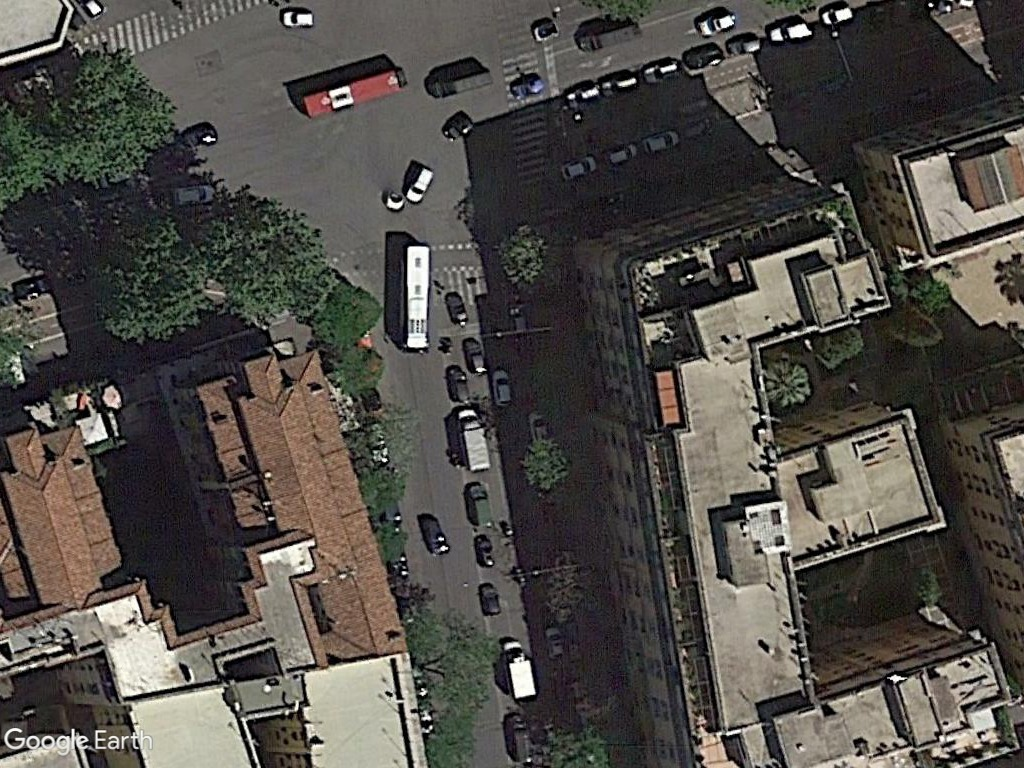bus: (299, 65, 408, 120), (398, 242, 436, 353)
car: (169, 182, 220, 208), (598, 70, 642, 100), (506, 73, 548, 103), (679, 42, 725, 69), (640, 58, 683, 86), (639, 129, 681, 156), (461, 336, 489, 376), (476, 580, 504, 620), (695, 11, 738, 37), (442, 291, 472, 328), (814, 2, 856, 27), (558, 156, 598, 182), (472, 534, 499, 572), (488, 367, 514, 405), (724, 36, 765, 60), (602, 144, 641, 167), (279, 7, 319, 29)
other: (414, 508, 453, 559), (443, 362, 475, 405), (526, 18, 562, 43)
truck: (449, 404, 492, 475), (497, 633, 539, 701), (425, 69, 498, 99), (574, 25, 642, 54), (502, 710, 536, 768), (463, 479, 496, 531)
van: (398, 161, 436, 206), (765, 17, 815, 46)
